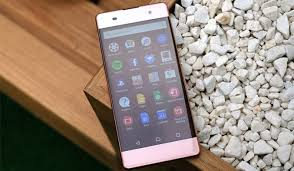sony: (98, 1, 200, 171)
